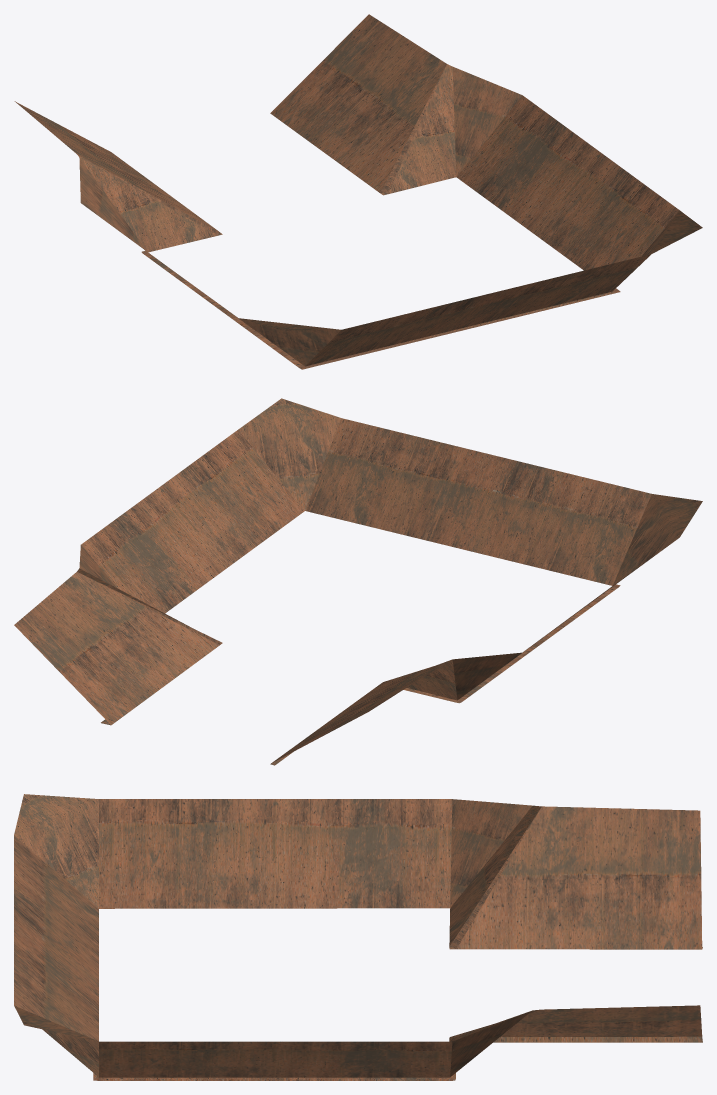
File: RoofStuff.fbx
3 views of the same model, one above another, from view 1: azimuth 30°, elevation 25°; view 2: azimuth 150°, elevation 25°; view 3: azimuth 270°, elevation 25° (orthographic). The views are drawn at different scales.
Parts seen in each view (by area): view 1: Dach; view 2: Dach; view 3: Dach.
Part boxes in pixels (x1=…): Dach: x1=14, y1=14, x2=702, y2=369; Dach: x1=14, y1=398, x2=702, y2=765; Dach: x1=14, y1=794, x2=702, y2=1080.
Bounding box in the file's own units: 1791 × 294 × 2151.
